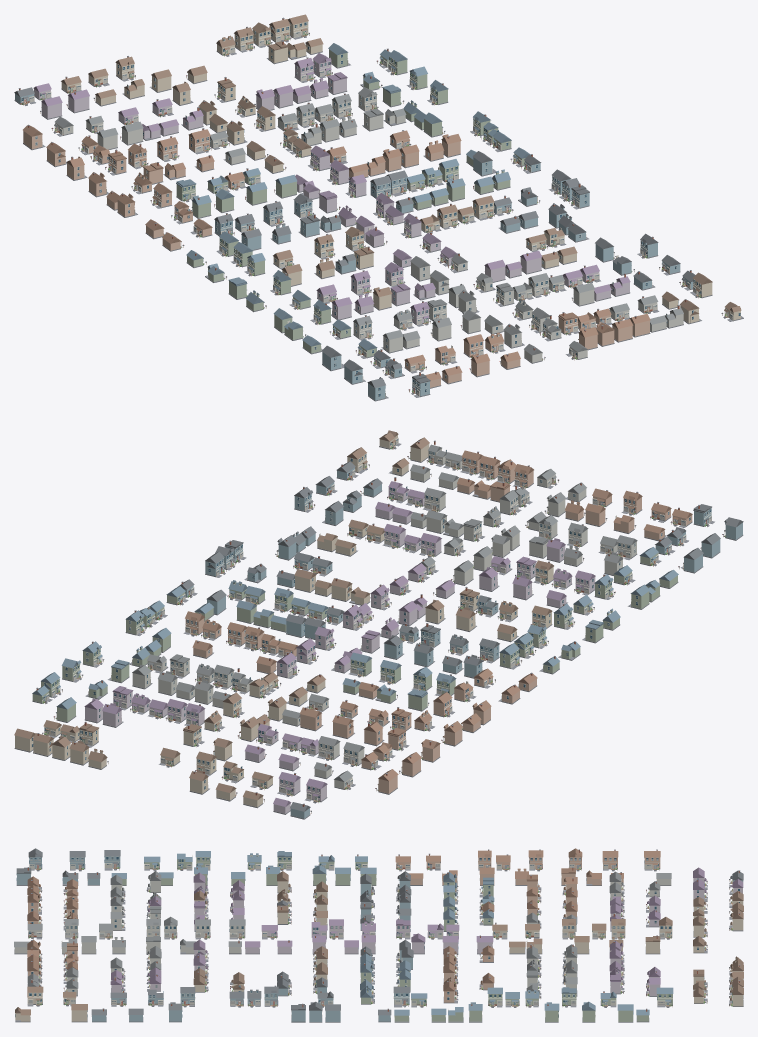
Rendered from bramble-park.glb.
The picture shows the model from 3 angles, top to bottom: view 1: azimuth 30°, elevation 25°; view 2: azimuth 150°, elevation 25°; view 3: azimuth 270°, elevation 25°; orthographic projection. The views are drawn at different scales.
Parts seen in each view (by area): view 1: no part large enough to name; view 2: no part large enough to name; view 3: suburban_29_double_garage.014, suburban_74_double_garage.012, suburban_29_double_garage.013, suburban_44_double_garage.016, suburban_59_double_garage.016, suburban_12_side_garage_two.014, suburban_72_side_garage_two.014, suburban_14_double_garage.014, suburban_27_side_garage_two.012, suburban_57_side_garage_two.016, suburban_23_suburban_farmhouse.014, suburban_35_garage_colonial.016 (+2 smaller).
Part boxes in pixels (bbox=[...]): suburban_29_double_garage.014: bbox=[393, 986, 410, 1007]; suburban_74_double_garage.012: bbox=[229, 919, 245, 939]; suburban_29_double_garage.013: bbox=[104, 850, 120, 870]; suburban_44_double_garage.016: bbox=[656, 987, 673, 1007]; suburban_59_double_garage.016: bbox=[644, 849, 660, 871]; suburban_12_side_garage_two.014: bbox=[27, 984, 43, 1006]; suburban_72_side_garage_two.014: bbox=[195, 919, 210, 939]; suburban_14_double_garage.014: bbox=[71, 1004, 87, 1022]; suburban_27_side_garage_two.012: bbox=[69, 851, 85, 871]; suburban_57_side_garage_two.016: bbox=[602, 849, 618, 871]; suburban_23_suburban_farmhouse.014: bbox=[264, 985, 278, 1007]; suburban_35_garage_colonial.016: bbox=[487, 987, 502, 1007].
Size of the model in its own units: 163 by 9.08 by 316.
